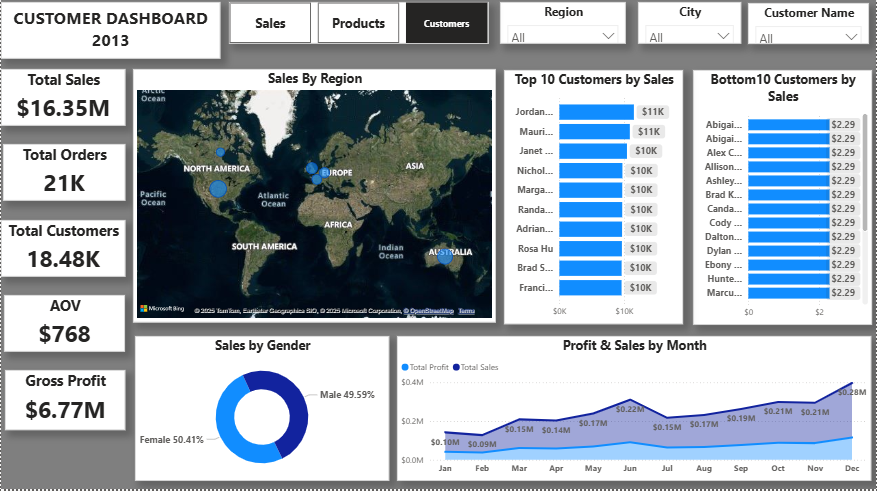

The dashboard page shown, as its layout file describes it:
{"tool":"powerbi","page":{"name":"Customers","canvas":[1280,720],"ordinal":2},"visuals":[{"type":"textbox","box":[0,7.4,321.5,83.3],"z":0},{"type":"card","title":"Total Sales","fields":{"Values":["FinancialCategories.Total Sales"]},"box":[0,105.7,181.6,83.3],"z":1000},{"type":"card","title":"Total Orders","fields":{"Values":["FinancialCategories.Total Orders"]},"box":[3,215.8,178.6,83.3],"z":2000},{"type":"card","title":"Total Customers","fields":{"Values":["DimCustomerCleaned.Total customers"]},"box":[0,326,181.6,83.3],"z":3000},{"type":"card","title":"AOV","fields":{"Values":["FinancialCategories.AOV"]},"box":[4.5,436.1,177.1,83.3],"z":4000},{"type":"card","title":"Gross Profit","fields":{"Values":["FinancialCategories.Total Profit"]},"box":[6,546.2,175.6,87.8],"z":5000},{"type":"barChart","title":"Bottom10 Customers by Sales","fields":{"Y":["FinancialCategories.Total Sales"],"Category":["DimCustomerCleaned.Name"]},"box":[1012.7,106.8,262,373.2],"z":6000},{"type":"donutChart","title":"Sales by Gender","fields":{"Category":["DimCustomerCleaned.Gender"],"Y":["FinancialCategories.Total Sales"]},"box":[196.1,496.1,371.7,212.2],"z":7000},{"type":"map","title":"Sales By Region","fields":{"Size":["FinancialCategories.Total Sales"],"Category":["DimCustomerCleaned.Region"]},"box":[193.2,105.8,530.8,371.2],"z":8000},{"type":"barChart","title":"Top 10 Customers by Sales","fields":{"Y":["FinancialCategories.Total Sales"],"Category":["DimCustomerCleaned.Name"]},"box":[736.1,106.8,262,371.7],"z":9000},{"type":"stackedAreaChart","title":"Profit & Sales by Month","fields":{"Category":["DimDateCleaned.MonthShort"],"Y":["FinancialCategories.Total Profit","FinancialCategories.Total Sales"]},"box":[579.5,496.1,693.7,212.2],"z":10000},{"type":"slicer","title":"Region","fields":{"Values":["DimCustomerCleaned.Region"]},"box":[730.2,7.3,184.4,61.5],"z":11000},{"type":"slicer","title":"City","fields":{"Values":["DimCustomerCleaned.City"]},"box":[932.2,7.3,150.7,61.5],"z":12000},{"type":"pageNavigator","box":[333.7,7.3,380.5,61.5],"z":13000},{"type":"slicer","title":"Customer Name","fields":{"Values":["DimCustomerCleaned.Name"]},"box":[1093.2,8.8,177.1,60],"z":14000}]}

Visuals, with their boxes in screenshot pixels (x1, y1, x2, y2), scaled from the page's 1280x720 canvas onto the 877x491 screenshot:
textbox: left=0, top=5, right=220, bottom=62
"Total Sales" card: left=0, top=72, right=124, bottom=129
"Total Orders" card: left=2, top=147, right=124, bottom=204
"Total Customers" card: left=0, top=222, right=124, bottom=279
"AOV" card: left=3, top=297, right=124, bottom=354
"Gross Profit" card: left=4, top=372, right=124, bottom=432
"Bottom10 Customers by Sales" barChart: left=694, top=73, right=873, bottom=327
"Sales by Gender" donutChart: left=134, top=338, right=389, bottom=483
"Sales By Region" map: left=132, top=72, right=496, bottom=325
"Top 10 Customers by Sales" barChart: left=504, top=73, right=684, bottom=326
"Profit & Sales by Month" stackedAreaChart: left=397, top=338, right=872, bottom=483
"Region" slicer: left=500, top=5, right=627, bottom=47
"City" slicer: left=639, top=5, right=742, bottom=47
pageNavigator: left=229, top=5, right=489, bottom=47
"Customer Name" slicer: left=749, top=6, right=870, bottom=47
